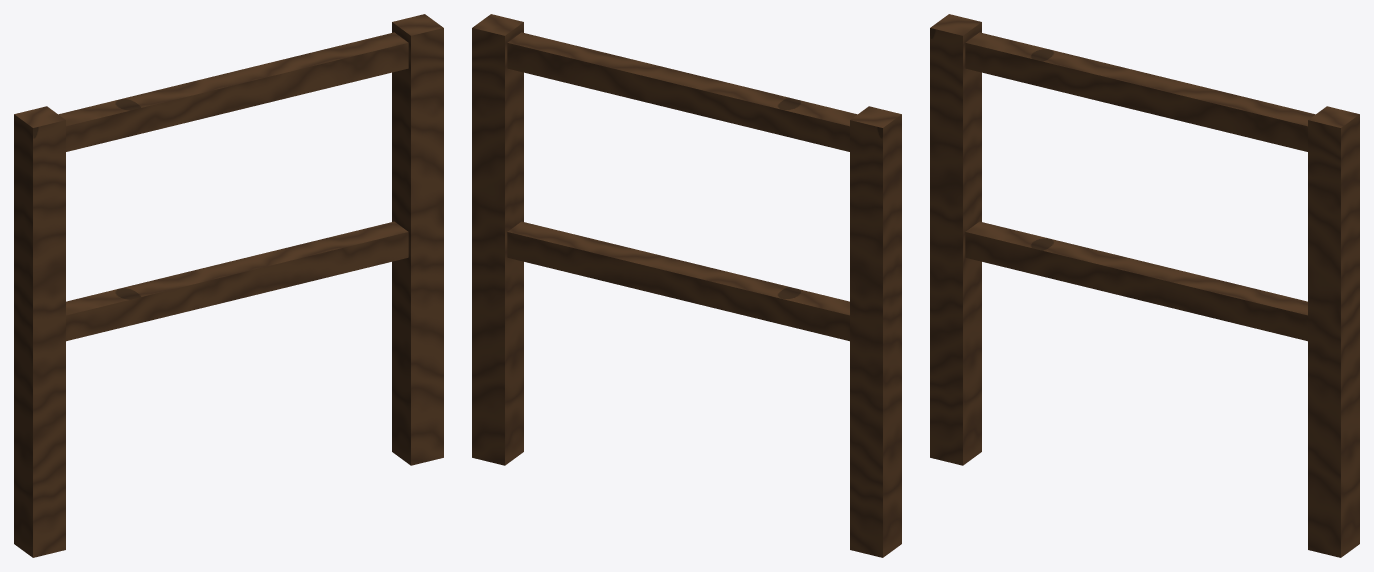
File: railing_straight_1m.glb
The picture shows the model from 3 angles, left to right: view 1: azimuth 30°, elevation 25°; view 2: azimuth 150°, elevation 25°; view 3: azimuth 330°, elevation 25°; orthographic projection.
Parts seen in each view (by area): view 1: railing_straight_1m; view 2: railing_straight_1m; view 3: railing_straight_1m.
Boxes of the visible parts, x1,y1,x2,y2 form: railing_straight_1m: (14, 14, 443, 557); railing_straight_1m: (472, 14, 901, 557); railing_straight_1m: (930, 14, 1359, 557).
Size of the model in its own units: 1 by 1 by 0.08.
1 material, 1 textured.
